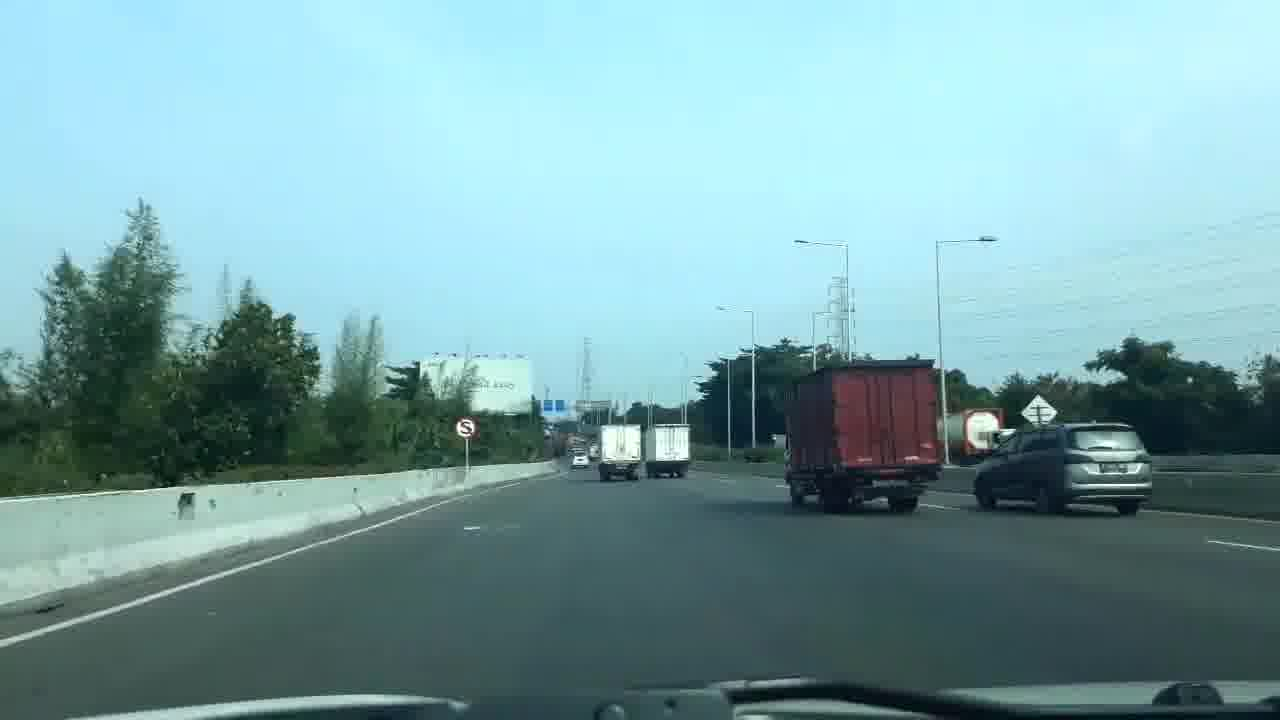plate_positive: (872, 479, 912, 489), (1100, 463, 1128, 473), (616, 466, 628, 470)
